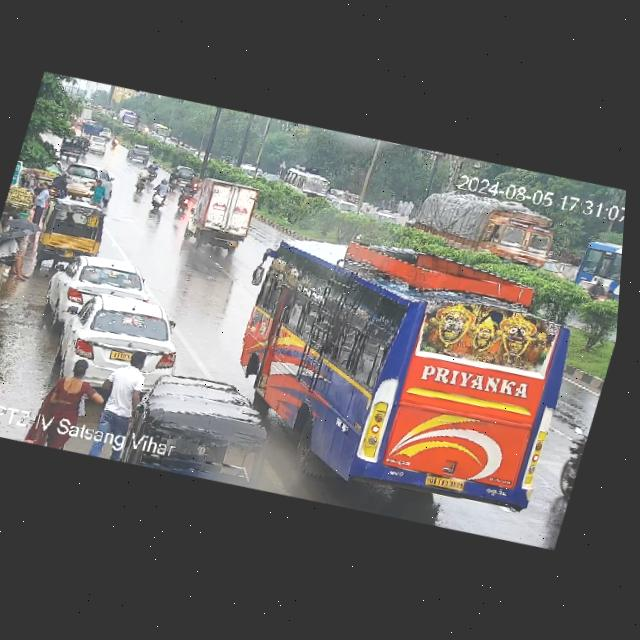bus: (190, 208, 604, 522), (563, 234, 623, 327), (274, 158, 339, 208), (114, 106, 145, 132), (149, 123, 171, 138)
car: (57, 283, 182, 394), (138, 365, 271, 454), (41, 243, 143, 329), (36, 198, 108, 269), (62, 159, 119, 202), (84, 130, 115, 159), (124, 140, 155, 166), (178, 162, 196, 182)
motorcycle: (148, 177, 173, 211), (172, 182, 195, 217), (134, 165, 153, 195), (142, 158, 162, 182), (167, 163, 184, 191)
person: (95, 346, 157, 433), (41, 352, 100, 421), (0, 222, 42, 284), (24, 179, 52, 225), (85, 175, 112, 210)
truck: (401, 175, 565, 273), (176, 169, 264, 260)
